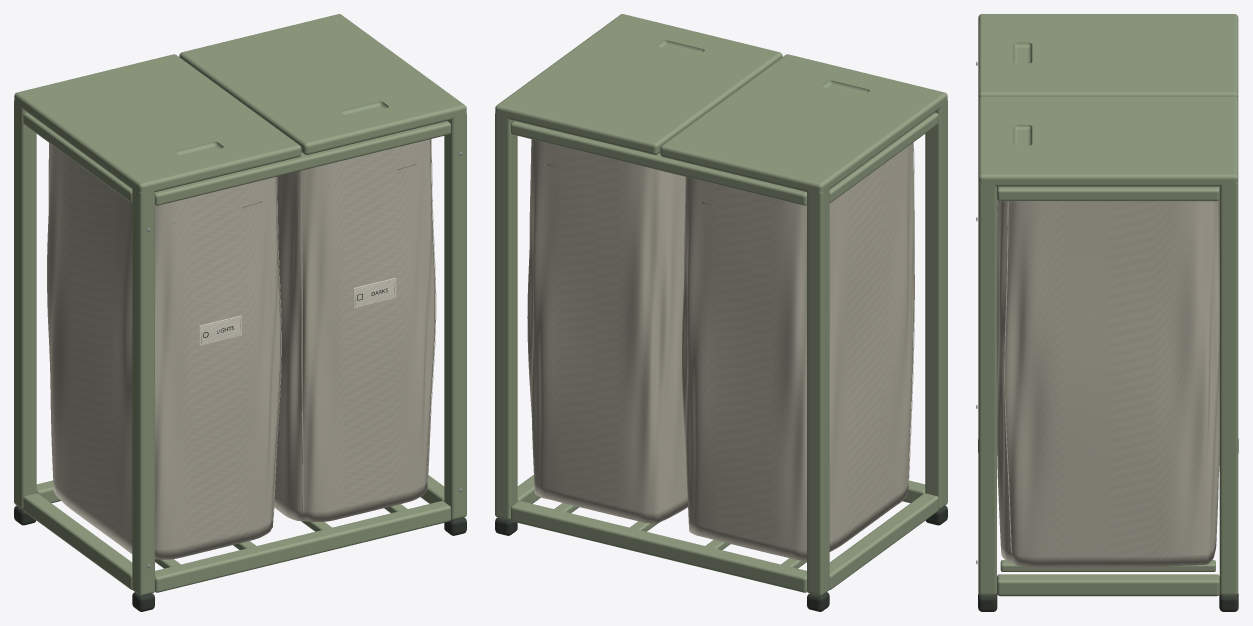
File: laundry-sorter-a1.glb
3 renders of one model, left to right at view 1: azimuth 30°, elevation 25°; view 2: azimuth 150°, elevation 25°; view 3: azimuth 270°, elevation 25°, orthographic. The views are drawn at different scales.
Parts seen in each view (by area): view 1: Shaped canvas bag LIGHTS, Shaped canvas bag DARKS, Radiused split lid, Radiused split lid.001, Rounded frame upright, Rounded frame upright.002, Rounded frame upright.001, Base perimeter rail, Upper bag support rail, Base side rail, Upper side rail, Woven task patch DARKS (+1 smaller); view 2: Shaped canvas bag LIGHTS, Shaped canvas bag DARKS, Radiused split lid, Radiused split lid.001, Rounded frame upright.001, Rounded frame upright.003, Rounded frame upright, Base perimeter rail.001, Upper bag support rail.001, Base side rail, Upper side rail; view 3: Shaped canvas bag DARKS, Radiused split lid.001, Radiused split lid, Rounded frame upright.003, Rounded frame upright.002, Base side rail.001, Upper side rail.001, Ventilated base support.003, Vertical sewn seam DARKS.001.
Part boxes in pixels (left/top/right/bottom): Shaped canvas bag LIGHTS: left=47, top=143, right=280, bottom=559; Shaped canvas bag DARKS: left=274, top=139, right=434, bottom=521; Radiused split lid: left=14, top=54, right=301, bottom=192; Radiused split lid.001: left=179, top=14, right=466, bottom=154; Rounded frame upright: left=132, top=188, right=154, bottom=595; Rounded frame upright.002: left=444, top=113, right=466, bottom=519; Rounded frame upright.001: left=14, top=101, right=36, bottom=509; Base perimeter rail: left=155, top=501, right=450, bottom=592; Upper bag support rail: left=155, top=121, right=450, bottom=205; Base side rail: left=23, top=493, right=132, bottom=589; Upper side rail: left=23, top=112, right=132, bottom=202; Woven task patch DARKS: left=353, top=278, right=396, bottom=308; Shaped canvas bag LIGHTS: left=682, top=143, right=914, bottom=561; Shaped canvas bag DARKS: left=527, top=139, right=687, bottom=523; Radiused split lid: left=660, top=54, right=947, bottom=192; Radiused split lid.001: left=495, top=14, right=782, bottom=154; Rounded frame upright.001: left=807, top=188, right=829, bottom=595; Rounded frame upright.003: left=495, top=113, right=517, bottom=519; Rounded frame upright: left=925, top=101, right=947, bottom=509; Base perimeter rail.001: left=511, top=501, right=806, bottom=592; Upper bag support rail.001: left=511, top=121, right=806, bottom=205; Base side rail: left=829, top=493, right=938, bottom=589; Upper side rail: left=829, top=112, right=938, bottom=202; Shaped canvas bag DARKS: left=997, top=199, right=1219, bottom=567; Radiused split lid.001: left=978, top=96, right=1238, bottom=186; Radiused split lid: left=978, top=14, right=1238, bottom=99; Rounded frame upright.003: left=1219, top=183, right=1238, bottom=595; Rounded frame upright.002: left=978, top=183, right=996, bottom=595; Base side rail.001: left=997, top=574, right=1219, bottom=596; Upper side rail.001: left=997, top=186, right=1219, bottom=201; Ventilated base support.003: left=1000, top=560, right=1215, bottom=571; Vertical sewn seam DARKS.001: left=1004, top=201, right=1011, bottom=552.
Bounding box in the file's own units: 0.521 × 0.65 × 0.3534.
Materials: 8 (3 with a texture image).
